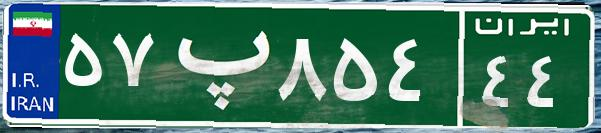4: (385, 28, 445, 110), (475, 38, 525, 113), (525, 38, 570, 115)
5: (330, 28, 385, 110), (57, 26, 110, 107)
7: (110, 28, 158, 105)
8: (273, 28, 330, 110)
پ: (158, 15, 273, 115)
